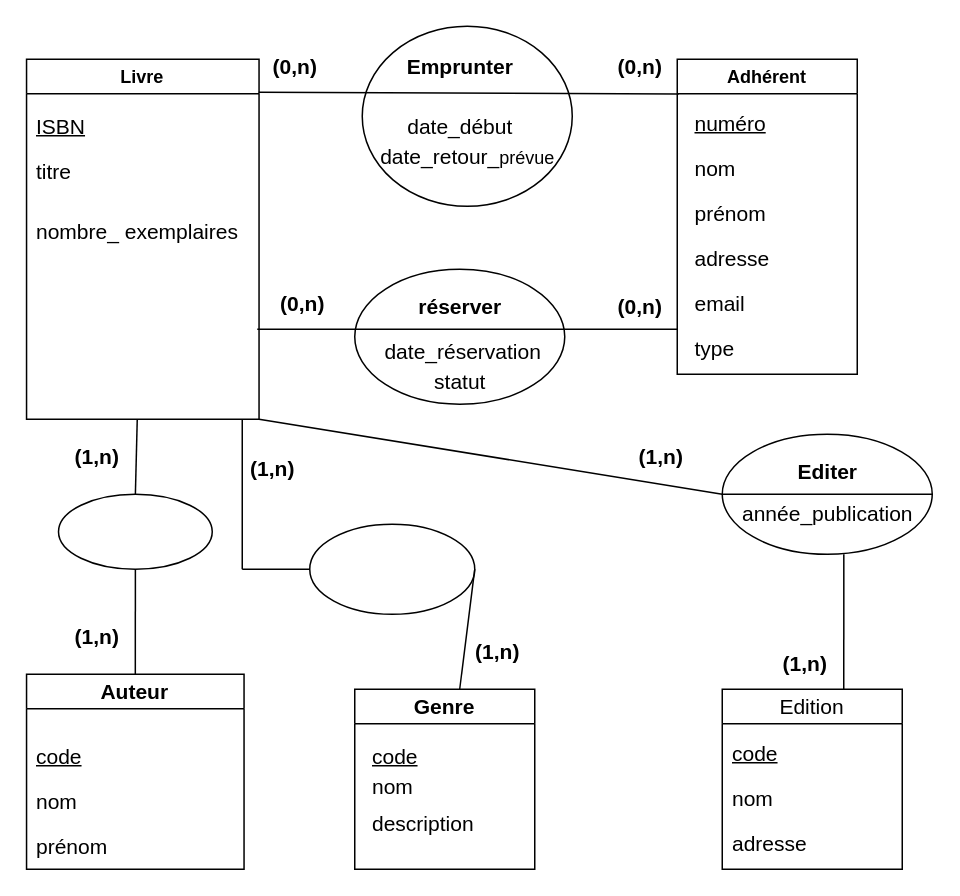
Image size: 960x896. Some labels were removed from this diagram. The centre of each missing label's shape, as x and y in pixels:
concerner: point 391,568
écrir: point 134,531
